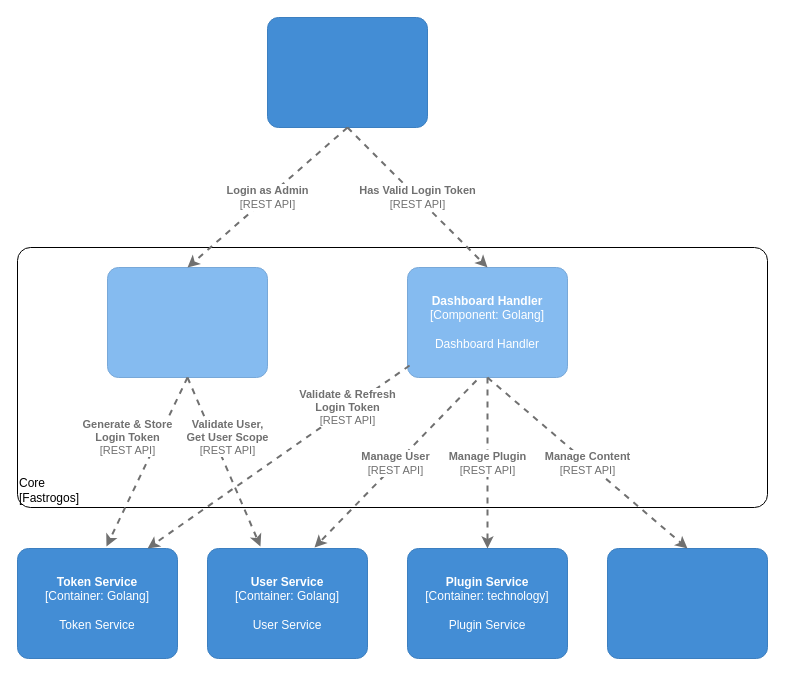
The diagram is 785 pixels wide and 676 high, and some of its shapes have lost their labels. The shapes that lost their labels are listed below. From the top down, each one's centre as x and y in pixels, then its label:
At (x=347, y=72): "Admin Dashboard Web App [Container: Golang, HTML, CSS, JS] GUI for Admin".
At (x=187, y=322): "Login Handler [Component: Golang] Login Handler for all kind of User".
At (x=687, y=603): "Content Service [Container: technology] Content Service".
